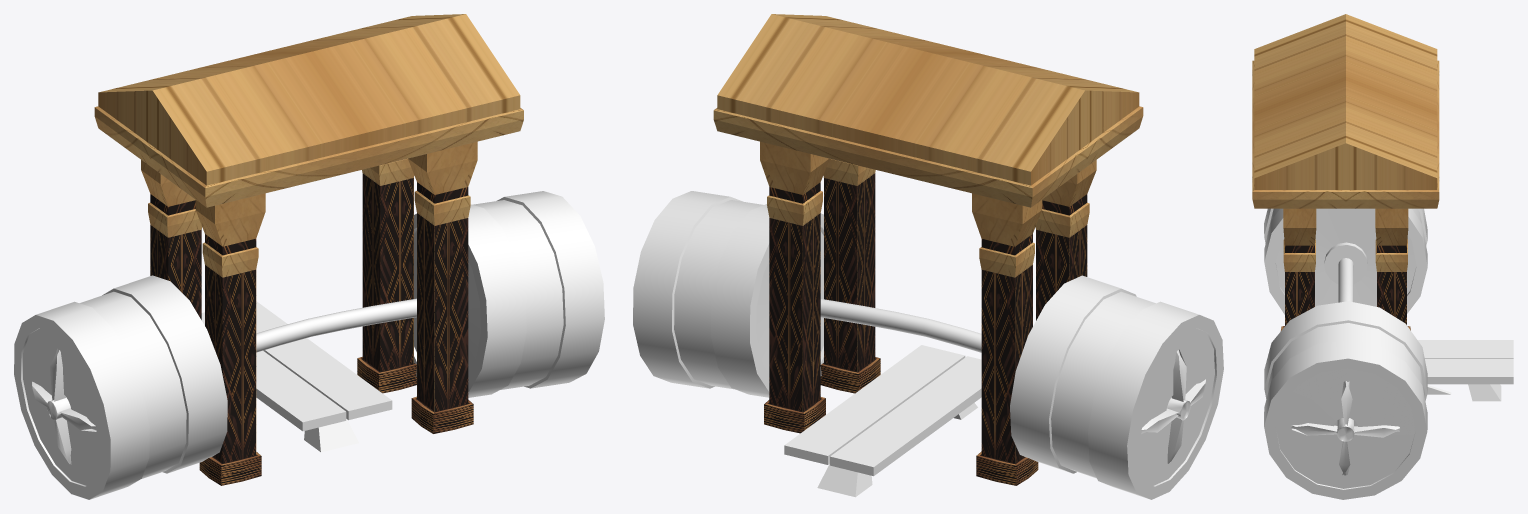
File: Spot Me Bro.fbx
3 renders of one model, left to right at view 1: azimuth 30°, elevation 25°; view 2: azimuth 150°, elevation 25°; view 3: azimuth 270°, elevation 25°, orthographic. The views are drawn at different scales.
Visible parts, largest first — view 1: Bench; view 2: Bench; view 3: Bench.
Boxes of the visible parts, box(x1,y1,x2,y2) form: Bench: box(14, 14, 604, 499); Bench: box(633, 14, 1223, 499); Bench: box(1252, 14, 1513, 499).
Bounding box in the file's own units: 390 × 276 × 202.
